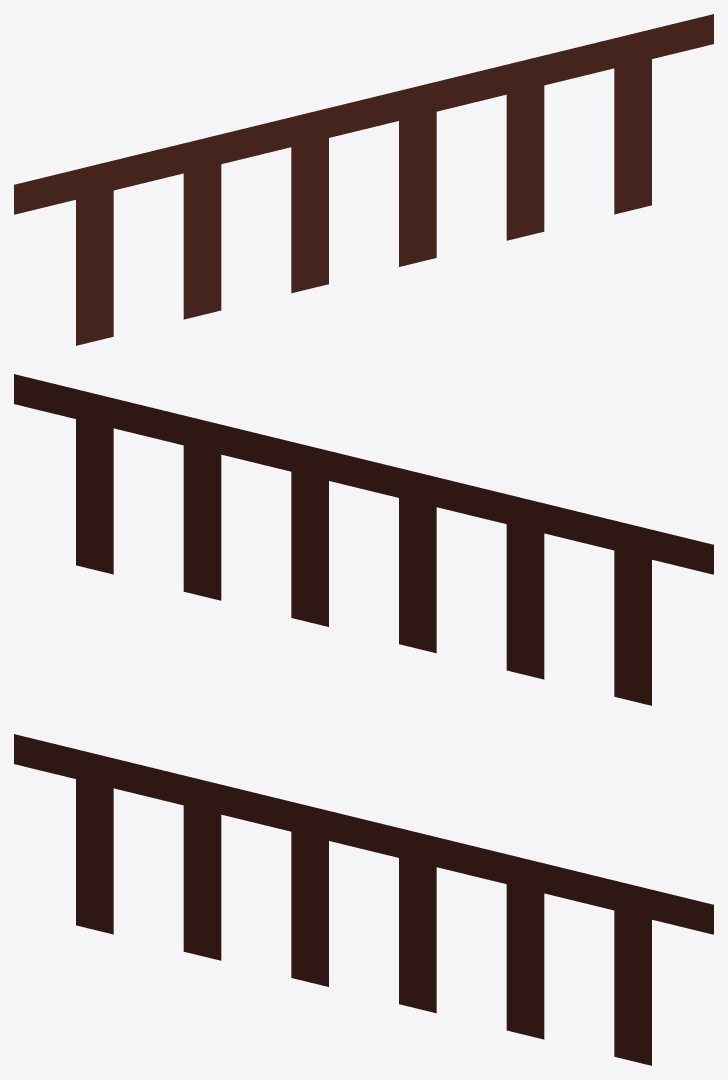
File: Lib_Fence.fbx
3 views of the same model, one above another, from view 1: azimuth 30°, elevation 25°; view 2: azimuth 150°, elevation 25°; view 3: azimuth 330°, elevation 25° (orthographic).
Parts seen in each view (by area): view 1: Plane.046; view 2: Plane.046; view 3: Plane.046.
Boxes of the visible parts, x1,y1,x2,y2 form: Plane.046: (14,14,713,345); Plane.046: (14,374,713,705); Plane.046: (14,734,713,1065).
Bounding box in the file's own units: 2483 × 597 × 0.000218.
